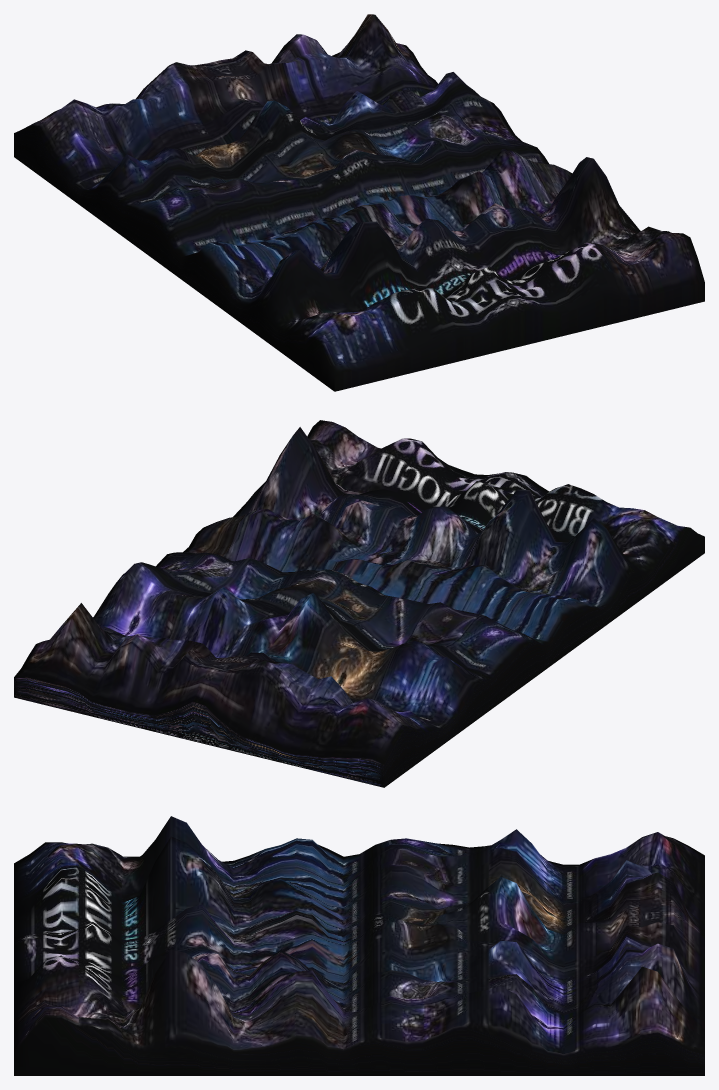
Rendered from CAREER_08_Poster_21.glb.
The picture shows the model from 3 angles, top to bottom: view 1: azimuth 30°, elevation 25°; view 2: azimuth 150°, elevation 25°; view 3: azimuth 270°, elevation 25°; orthographic projection. The views are drawn at different scales.
Parts seen in each view (by area): view 1: CAREER_08_Poster_21; view 2: CAREER_08_Poster_21; view 3: CAREER_08_Poster_21.
Boxes of the visible parts, bbox=[...] form: CAREER_08_Poster_21: bbox=[14, 14, 704, 391]; CAREER_08_Poster_21: bbox=[14, 420, 704, 787]; CAREER_08_Poster_21: bbox=[14, 816, 704, 1075].
Bounding box in the file's own units: 2 × 0.51 × 3.
1 material, 1 textured.
